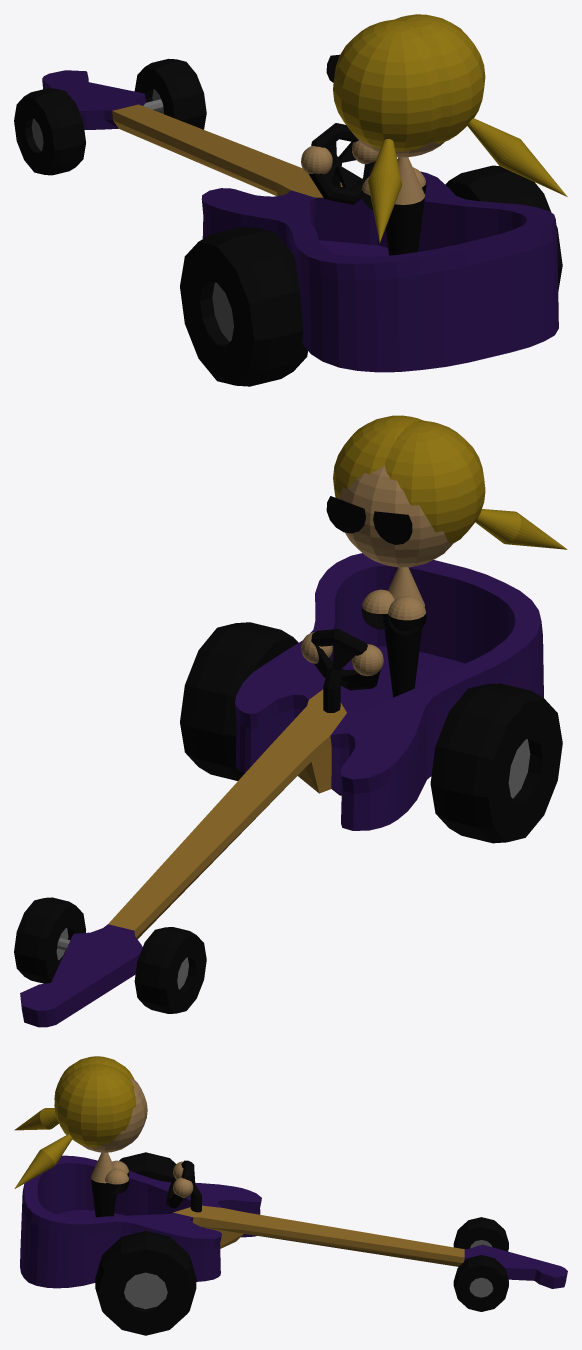
Rendered from cherry.obj.
3 renders of one model, top to bottom at view 1: azimuth 30°, elevation 25°; view 2: azimuth 150°, elevation 25°; view 3: azimuth 270°, elevation 25°, orthographic. The views are drawn at different scales.
Parts seen in each view (by area): view 1: Cylindre, Cube.001_Cube.002, Cône; view 2: Cylindre, Cube.001_Cube.002, Cône; view 3: Cylindre, Cube.001_Cube.002, Cône.
Part boxes in pixels (left/top/right/bottom): Cylindre: left=42, top=70, right=558, bottom=372; Cube.001_Cube.002: left=14, top=58, right=562, bottom=386; Cône: left=301, top=14, right=567, bottom=255; Cylindre: left=20, top=553, right=543, bottom=1027; Cube.001_Cube.002: left=14, top=622, right=562, bottom=1013; Cône: left=301, top=415, right=567, bottom=697; Cylindre: left=20, top=1155, right=567, bottom=1288; Cube.001_Cube.002: left=95, top=1152, right=508, bottom=1335; Cône: left=14, top=1056, right=193, bottom=1217.
Bounding box in the file's own units: 2.09 × 2.28 × 5.06.
